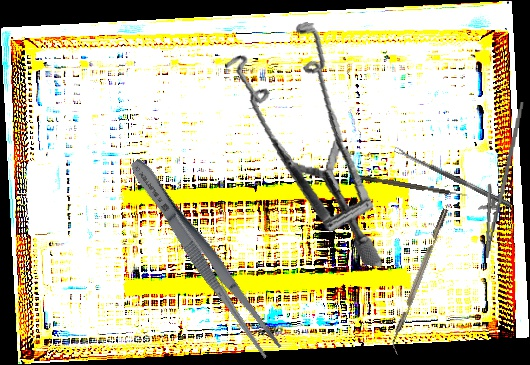Chopper: (385, 208, 456, 355)
Dressing Forceps: (122, 152, 286, 362)
Hook Surgical: (358, 174, 469, 199)
Needle Holder: (472, 98, 525, 261)
Speculum: (200, 11, 414, 268)
Surgical Spoon: (393, 145, 513, 209)
